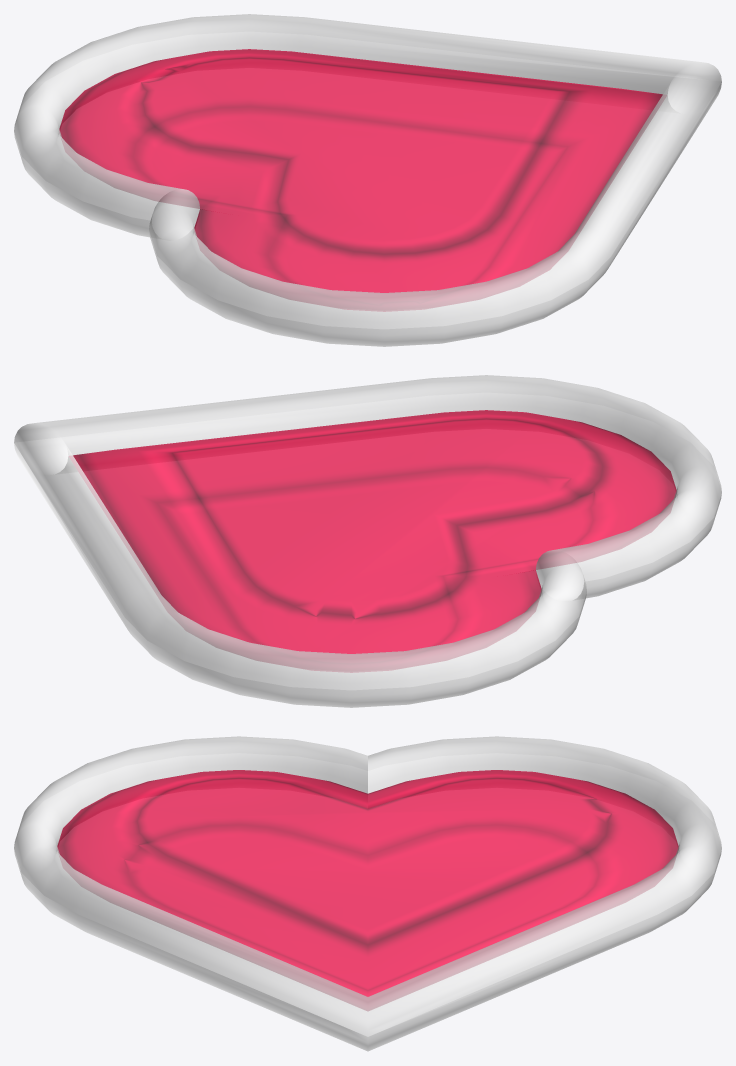
3 renders of one model, top to bottom at view 1: azimuth 30°, elevation 25°; view 2: azimuth 150°, elevation 25°; view 3: azimuth 270°, elevation 25°, orthographic. The views are drawn at different scales.
Parts seen in each view (by area): view 1: Mesh1_Model.012; view 2: Mesh1_Model.012; view 3: Mesh1_Model.012.
Part boxes in pixels (x1,y1,x2,y2): Mesh1_Model.012: (14,14,721,346); Mesh1_Model.012: (14,375,721,707); Mesh1_Model.012: (14,736,721,1051).
Bounding box in the file's own units: 0.9629 × 0.0926 × 1.01.
